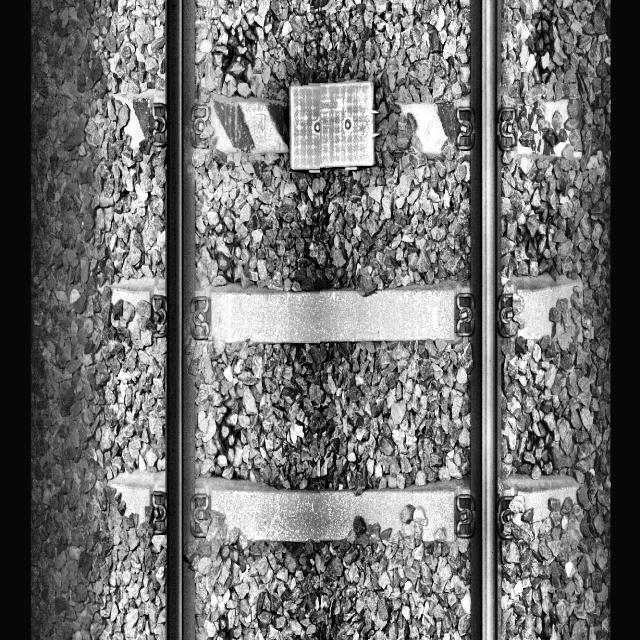Clips: (453, 290, 476, 338), (190, 295, 212, 340), (190, 493, 211, 538), (497, 495, 518, 540), (497, 292, 517, 337), (456, 494, 476, 538), (456, 106, 476, 150), (191, 105, 211, 148), (150, 491, 168, 535), (498, 107, 516, 150), (152, 102, 167, 150), (152, 294, 168, 337)
Sleepers: (93, 272, 584, 345), (107, 90, 584, 161), (105, 472, 582, 543)
